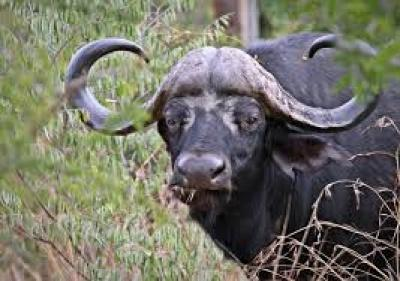buffalo: (66, 33, 399, 280)
